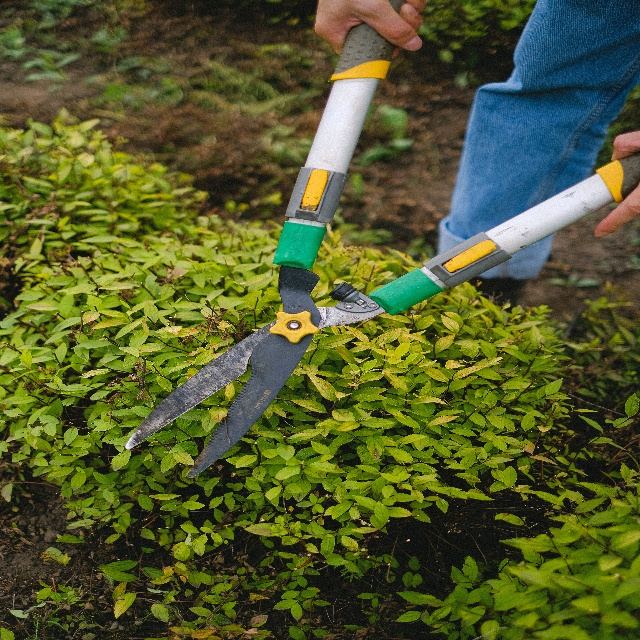Sin_guantes: (312, 0, 428, 62), (593, 123, 640, 242)
